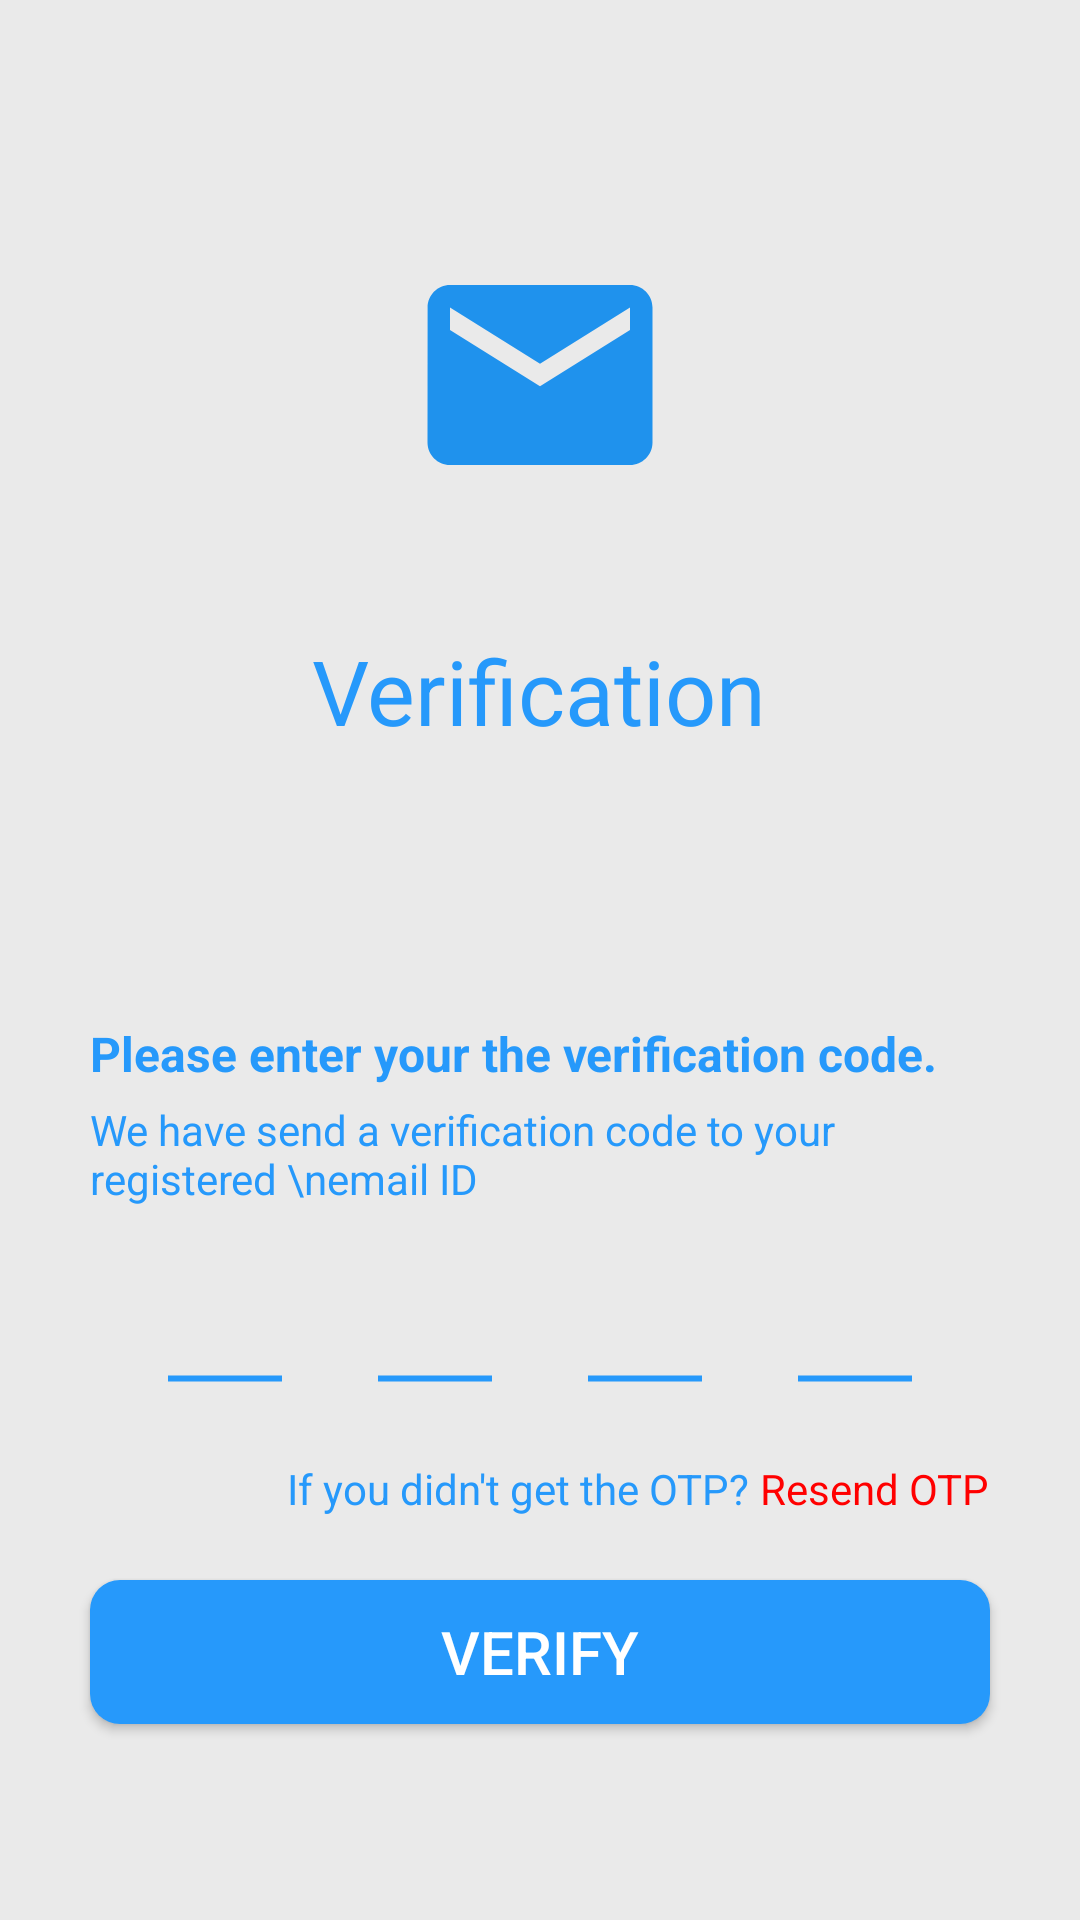

Icon click points for this 1080w x 1920h phone screenshot, format (x,y):
email: (540,375)
